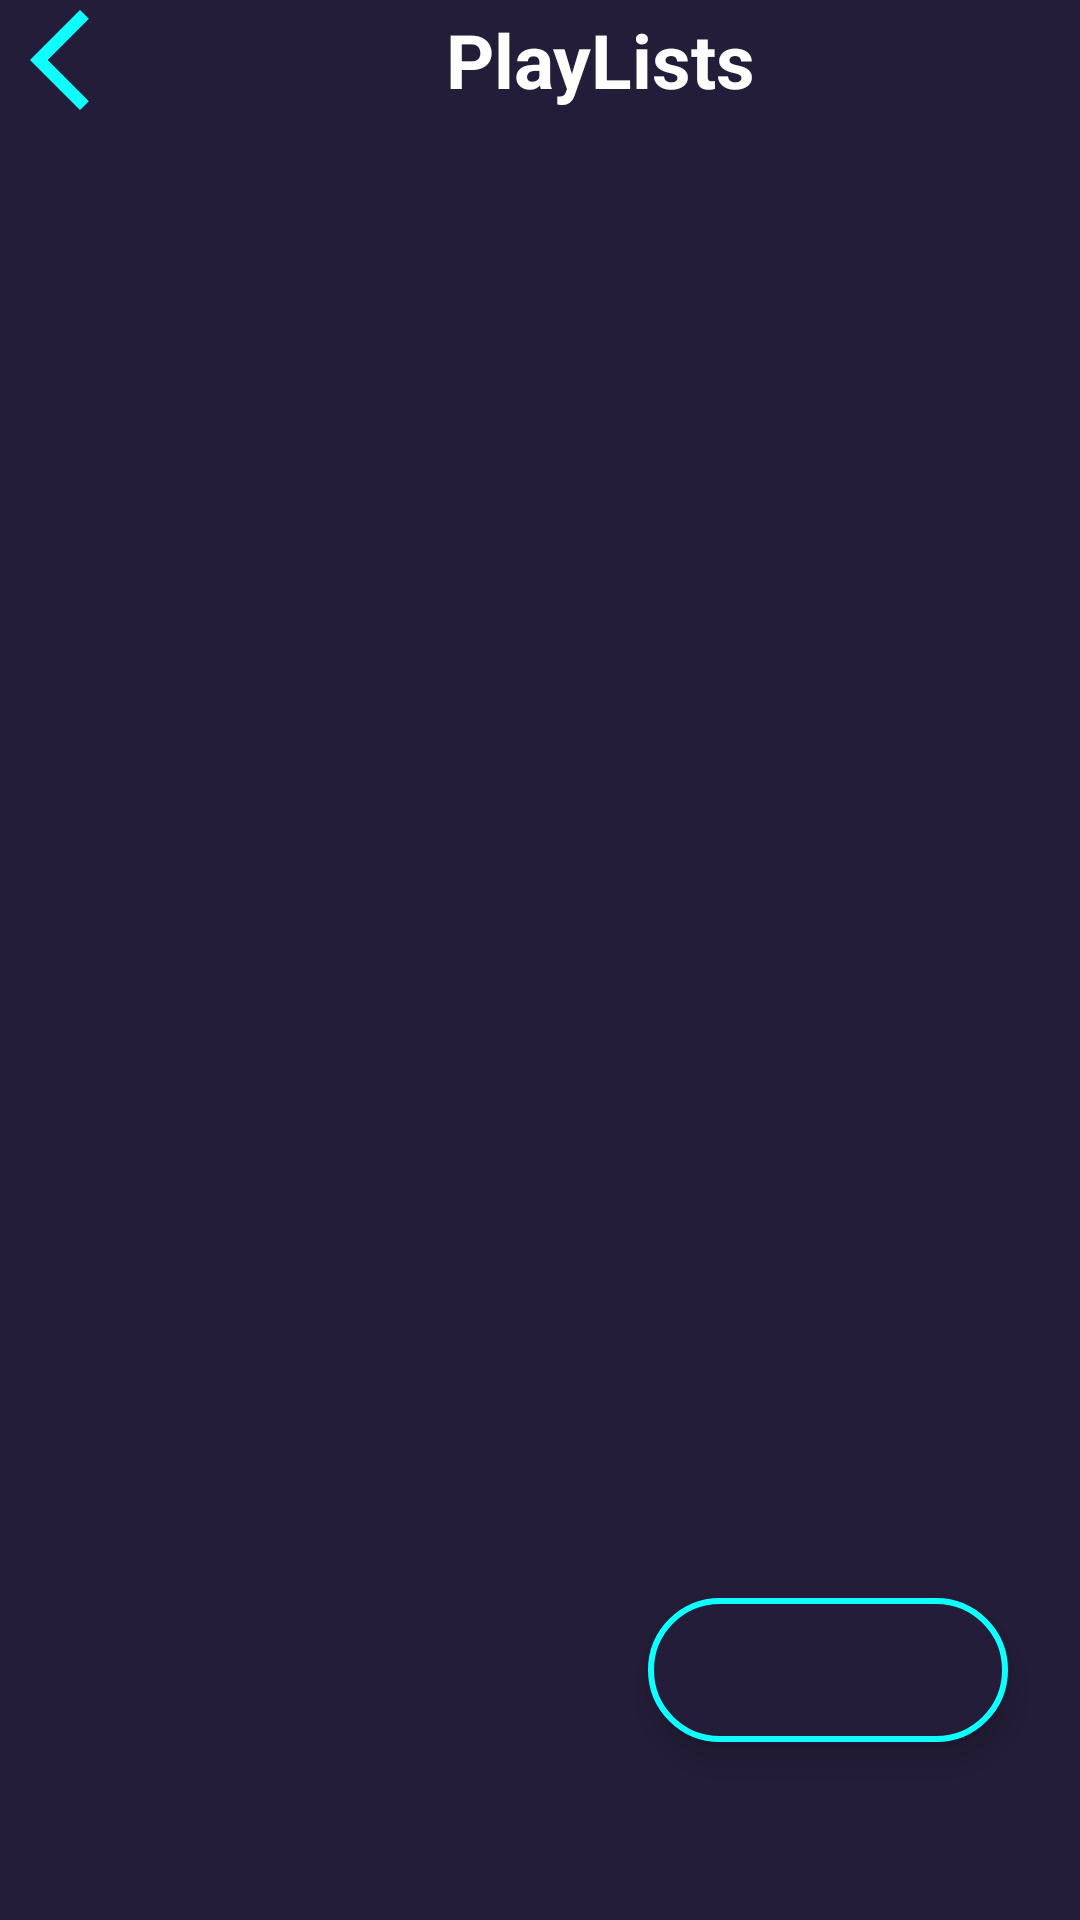

Screen size 1080 x 1920. Icon name, then its center in pixels as point (x, y):
Back: point (59, 60)
